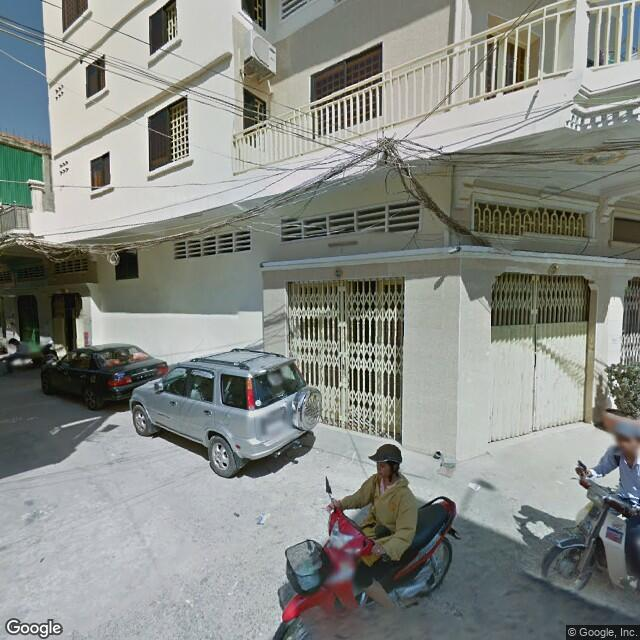litter: (40, 419, 67, 441), (469, 476, 482, 499)
